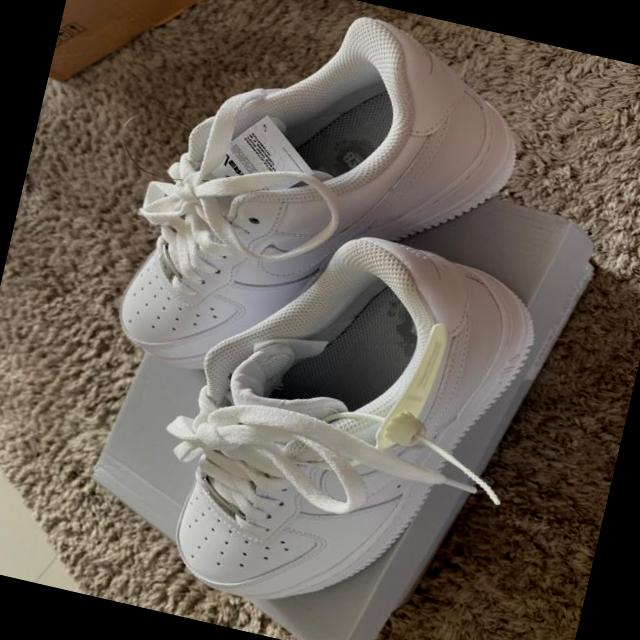nike_original_airforce: (93, 0, 549, 435), (109, 195, 548, 640)
